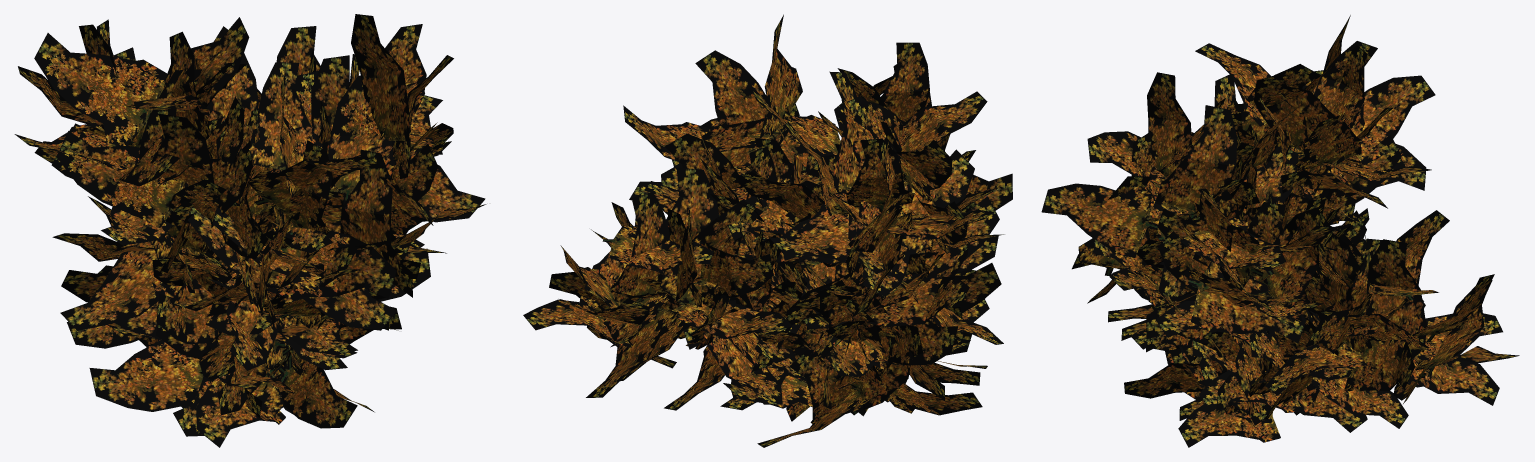
Rendered from leaves 002.fbx.
The picture shows the model from 3 angles, left to right: view 1: azimuth 30°, elevation 25°; view 2: azimuth 150°, elevation 25°; view 3: azimuth 270°, elevation 25°; orthographic projection. The views are drawn at different scales.
Parts seen in each view (by area): view 1: leaves 002_Baked; view 2: leaves 002_Baked; view 3: leaves 002_Baked.
Part boxes in pixels (left/top/right/bottom): leaves 002_Baked: left=14, top=14, right=486, bottom=447; leaves 002_Baked: left=523, top=14, right=1012, bottom=447; leaves 002_Baked: left=1041, top=15, right=1519, bottom=447.
Size of the model in its own units: 917 by 810 by 991.
1 material, 1 textured.
